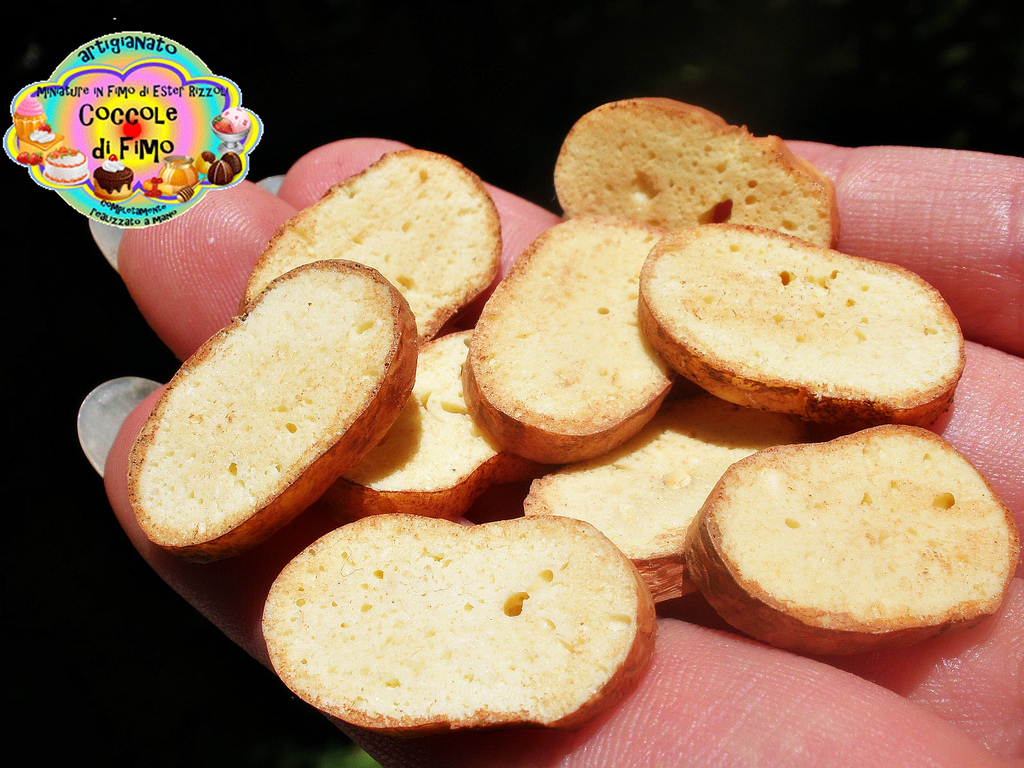slice of bread: (133, 293, 1011, 746), (347, 94, 957, 429)
